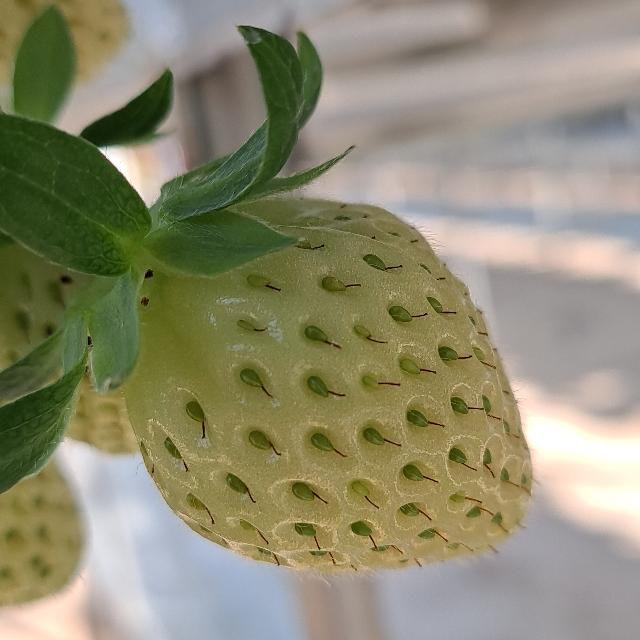Health_25: (123, 196, 532, 572)
